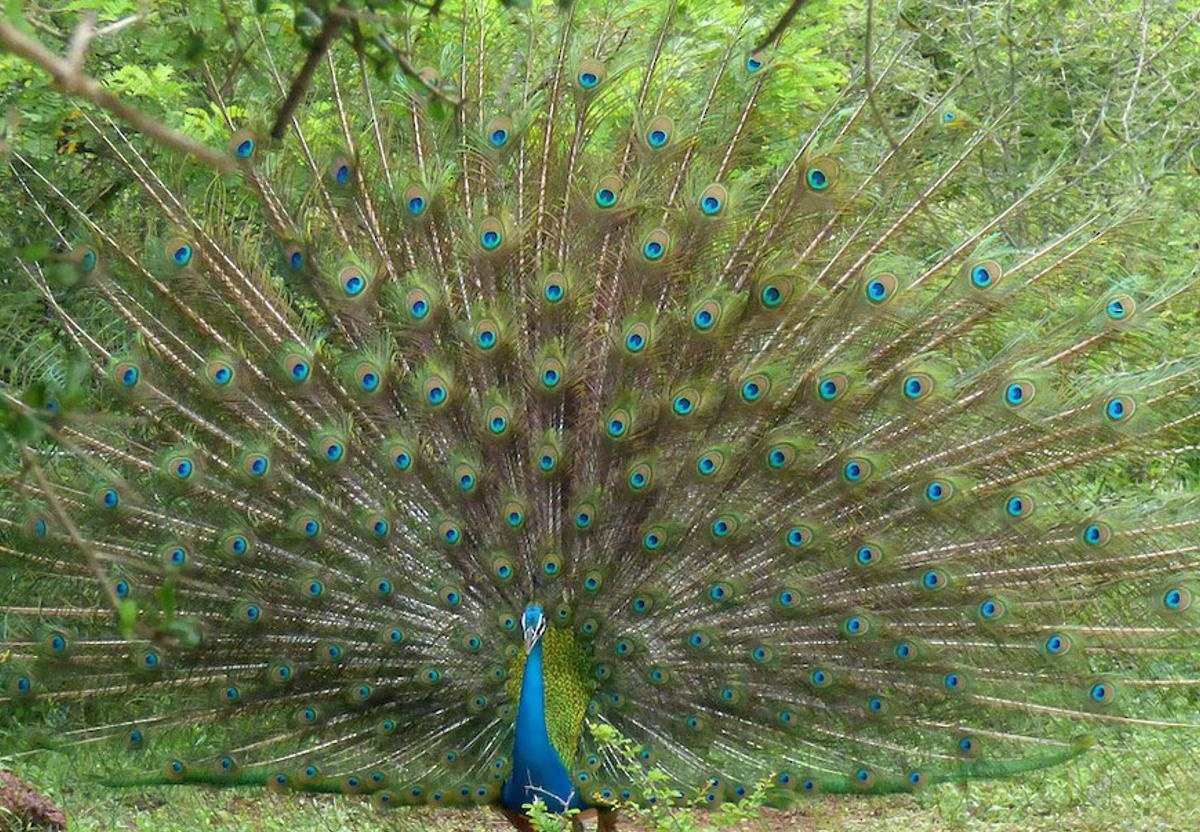peacock: (75, 110, 1167, 797)
